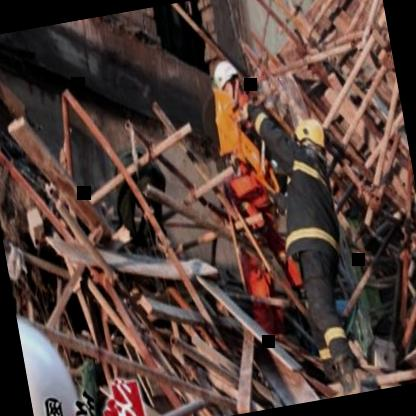helmet: (289, 110, 333, 171), (209, 56, 248, 111)
